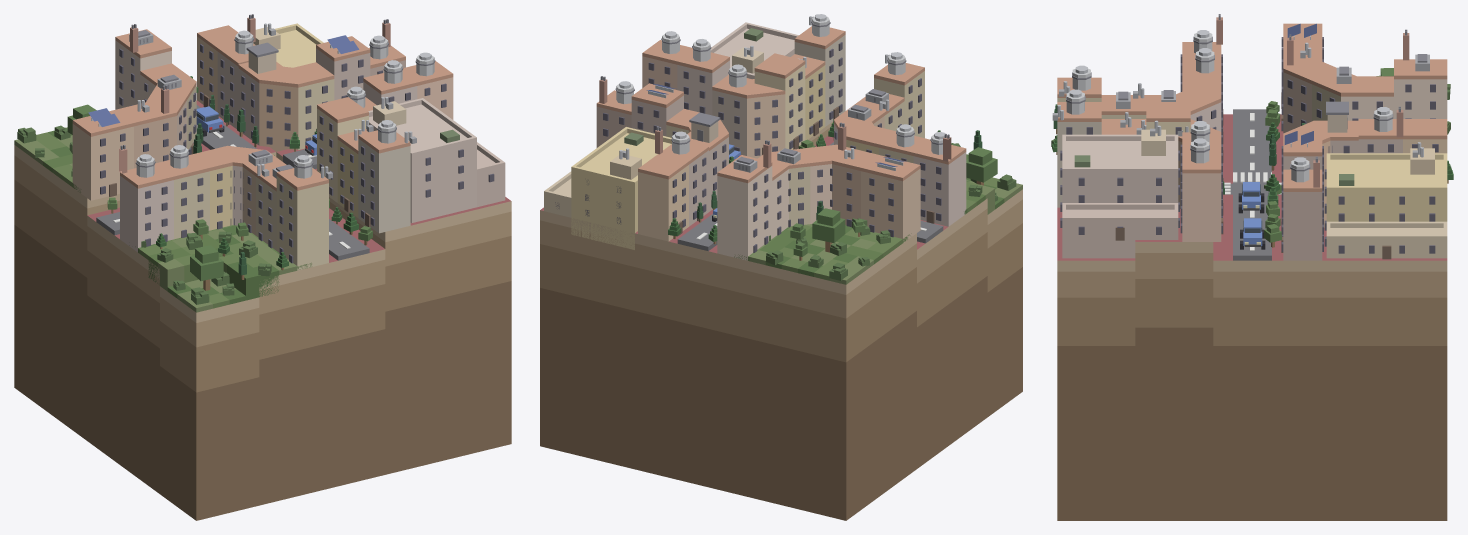
The model's file is block_19_engineered_20.glb.
3 views of the same model, side by side, from view 1: azimuth 30°, elevation 25°; view 2: azimuth 150°, elevation 25°; view 3: azimuth 270°, elevation 25° (orthographic). The views are drawn at different scales.
Parts seen in each view (by area): view 1: Patch_MidRight_b19_ES, Cerda_MidRight_b19_ES, Insets_MidRight_b19_ES, CerdaRoofProps_MidRight_b19_ES, Green_MidRight_b19_ES, Roads_MidRight_b19_ES, Asset_Tree_Round.077_ES, Asset_Car.040_ES; view 2: Patch_MidRight_b19_ES, Cerda_MidRight_b19_ES, Insets_MidRight_b19_ES, CerdaRoofProps_MidRight_b19_ES, Green_MidRight_b19_ES, Roads_MidRight_b19_ES, Asset_Tree_Round.065_ES, Asset_Tree_Round.077_ES; view 3: Patch_MidRight_b19_ES, Cerda_MidRight_b19_ES, Insets_MidRight_b19_ES, CerdaRoofProps_MidRight_b19_ES, Roads_MidRight_b19_ES, Asset_Car.041_ES, Asset_Car.042_ES.
Boxes of the visible parts, x1,y1,x2,y2 form: Patch_MidRight_b19_ES: (14, 100, 511, 520); Cerda_MidRight_b19_ES: (72, 25, 453, 270); Insets_MidRight_b19_ES: (253, 23, 505, 223); CerdaRoofProps_MidRight_b19_ES: (88, 14, 435, 178); Green_MidRight_b19_ES: (14, 127, 312, 312); Roads_MidRight_b19_ES: (96, 105, 369, 260); Asset_Tree_Round.077_ES: (190, 245, 223, 290); Asset_Car.040_ES: (196, 106, 224, 136); Patch_MidRight_b19_ES: (540, 121, 1022, 520); Cerda_MidRight_b19_ES: (596, 26, 966, 260); Insets_MidRight_b19_ES: (544, 22, 798, 249); CerdaRoofProps_MidRight_b19_ES: (599, 14, 951, 172); Green_MidRight_b19_ES: (734, 154, 1022, 284); Roads_MidRight_b19_ES: (677, 142, 943, 251); Asset_Tree_Round.065_ES: (812, 208, 845, 252); Asset_Tree_Round.077_ES: (966, 147, 997, 185); Patch_MidRight_b19_ES: (1057, 114, 1447, 520); Cerda_MidRight_b19_ES: (1057, 23, 1447, 260); Insets_MidRight_b19_ES: (1060, 129, 1447, 259); CerdaRoofProps_MidRight_b19_ES: (1052, 14, 1429, 187); Roads_MidRight_b19_ES: (1224, 109, 1271, 260); Asset_Car.041_ES: (1238, 182, 1264, 213); Asset_Car.042_ES: (1240, 218, 1265, 249).
Bounding box in the file's own units: 9.56 × 10.16 × 9.8.
